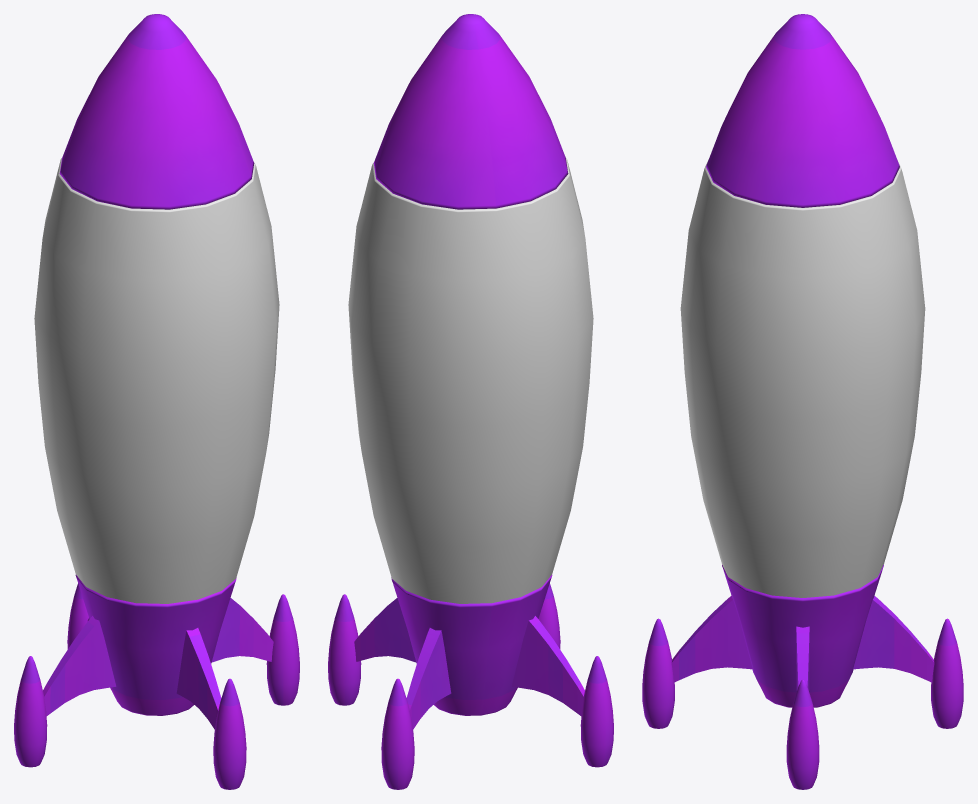
The model's file is ToyRocketPink.fbx.
3 views of the same model, side by side, from view 1: azimuth 30°, elevation 25°; view 2: azimuth 150°, elevation 25°; view 3: azimuth 270°, elevation 25° (orthographic).
Visible parts, largest first — view 1: Rocket, RocketCaps; view 2: Rocket, RocketCaps; view 3: Rocket, RocketCaps.
Part boxes in pixels (x1,y1,x2,y2): Rocket: [34, 158, 279, 603]; RocketCaps: [14, 14, 299, 789]; Rocket: [348, 158, 593, 603]; RocketCaps: [328, 14, 613, 789]; Rocket: [680, 159, 925, 597]; RocketCaps: [642, 14, 963, 789].
Size of the model in its own units: 3.11 by 7.56 by 3.11.
